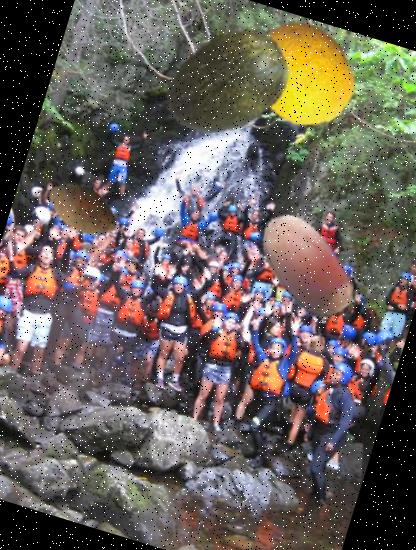Cantaloupe: (234, 8, 369, 143)
Hazelnut: (232, 190, 378, 336)
Melon: (143, 0, 307, 161)
Potato: (35, 160, 132, 257)
